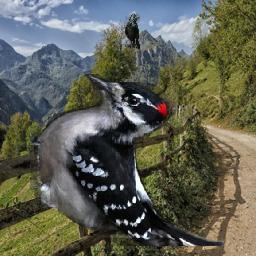Crow: (126, 13, 141, 49)
Woodpecker: (30, 74, 224, 246)
